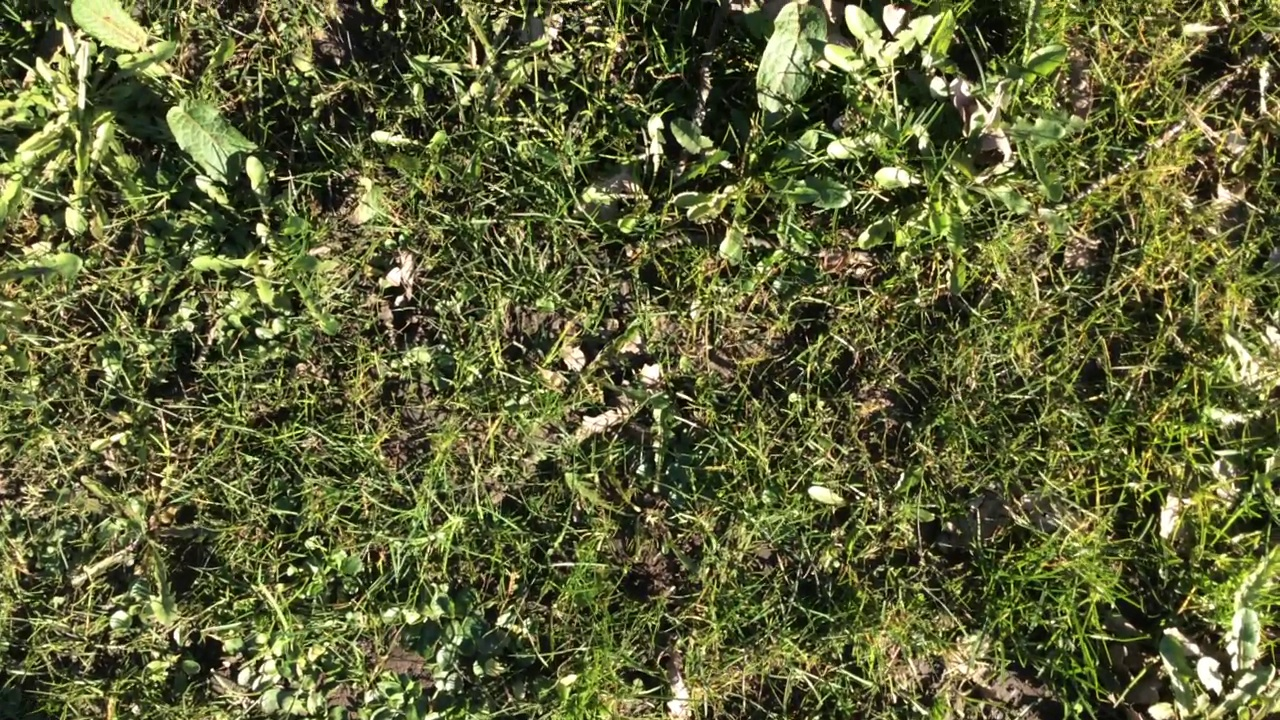rumex: (758, 2, 826, 116), (169, 98, 258, 184), (64, 1, 159, 57), (669, 117, 711, 154)
